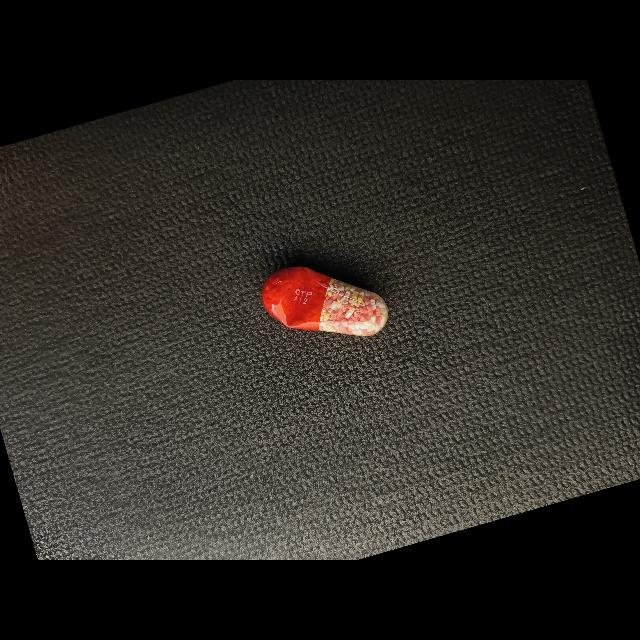Defective Capsule: (261, 266, 388, 336)
